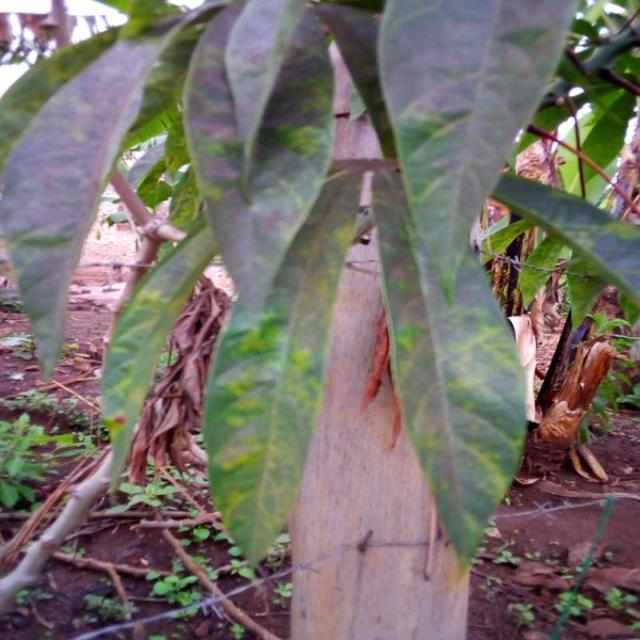cassava leaf: (1, 0, 592, 587), (370, 0, 582, 578), (0, 12, 186, 382), (202, 160, 368, 570)
